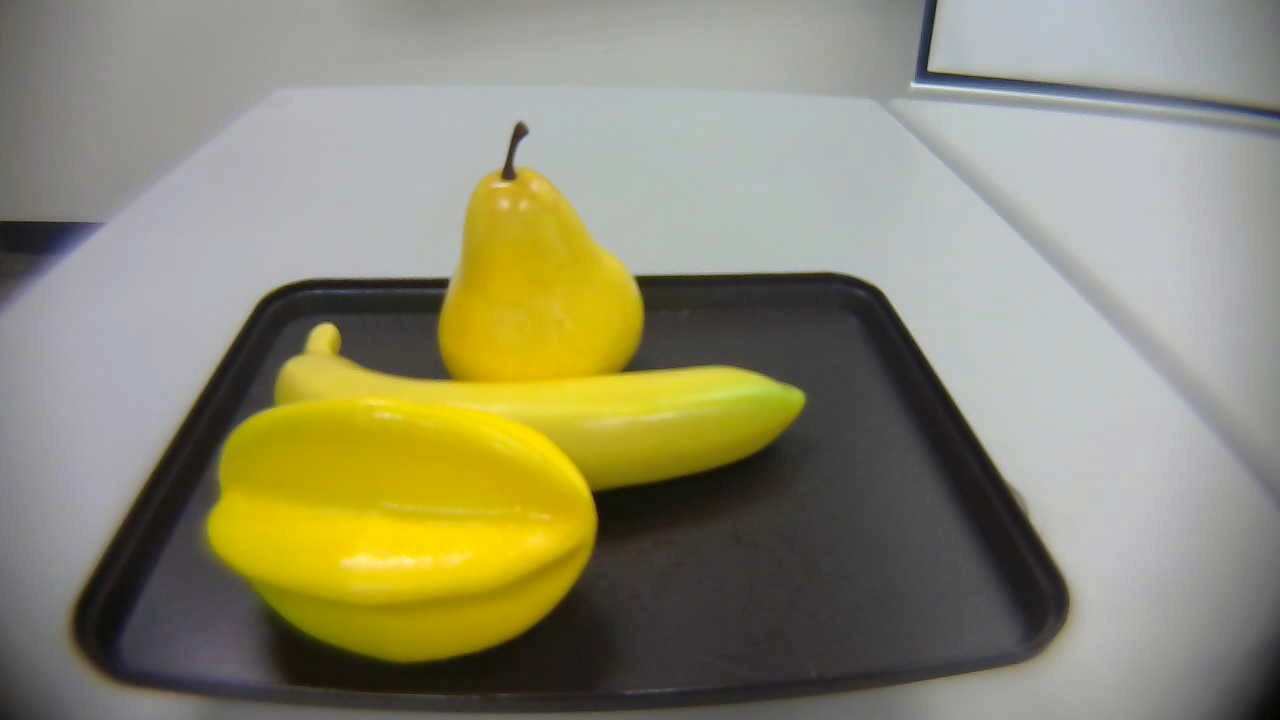banana: (263, 312, 814, 497)
star fruit: (206, 402, 602, 661)
yellow pear: (435, 122, 647, 391)
